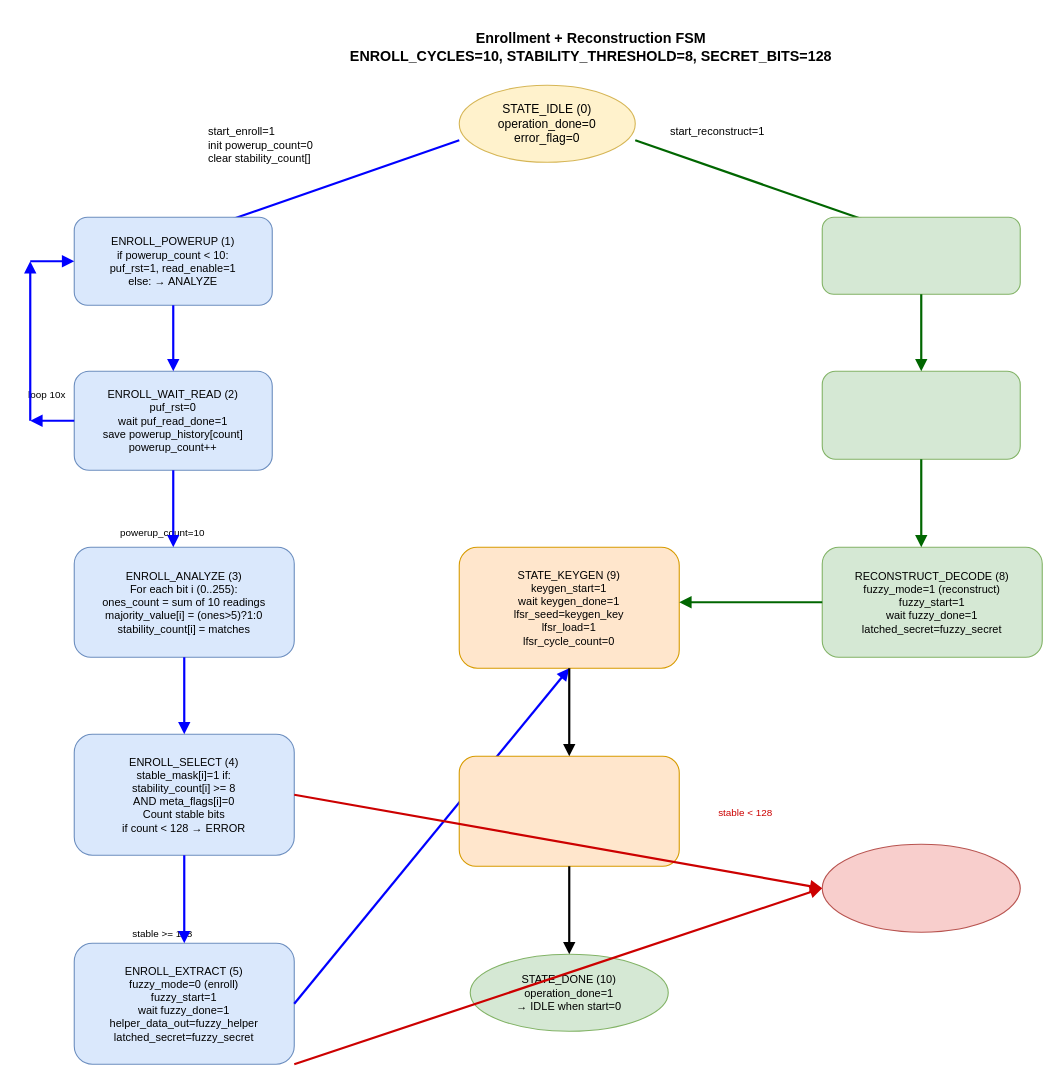
This 1062x1092 diagram has some shape labels left out. Each missing label, with the centre of its shape:
RECONSTRUCT_POWERUP (6) puf_rst=1 read_enable=1: pixel 920 255
RECONSTRUCT_READ (7) puf_rst=0 wait puf_read_done=1 read_enable=0: pixel 920 414
STATE_ERROR (11) operation_done=1 error_flag=1 → IDLE when start=0: pixel 920 887
STATE_LFSR (12) lfsr_load=0 lfsr_enable=1 run 256 cycles key_out=lfsr_out: pixel 568 810
